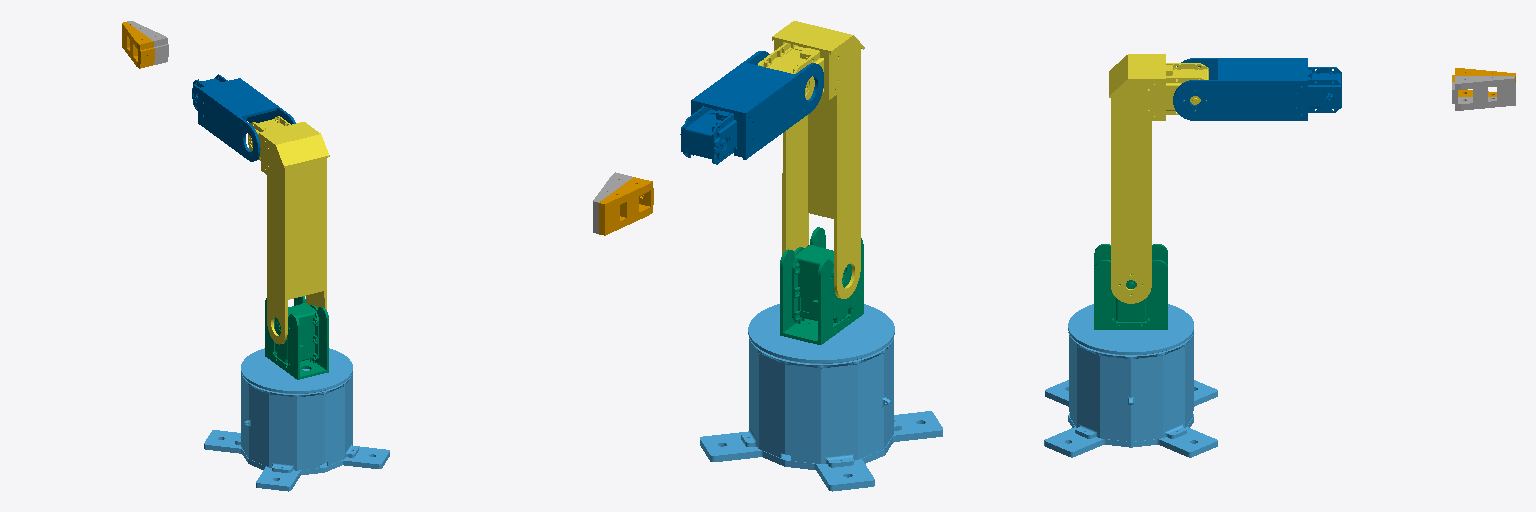
robot.urdf — angle_robot:
<?xml version="1.0"?>
<robot name="angle_robot" xmlns:xacro="http://www.ros.org/wiki/xacro">
	<link name="map" />
	<joint name="ang_base" type="fixed">
		<parent link="map" />
		<child link="ang_link0" />
		<origin rpy="0 0 3.14" xyz="0 0 0.01" />
	</joint>

	<link name="ang_link0">
		<visual>
			<geometry>
				<mesh filename="package://omnibot_manipulator/meshes/link1.dae" scale="0.001 0.001 0.001" />
			</geometry>
		</visual>
		<collision>
			<geometry>
				<mesh filename="package://omnibot_manipulator/meshes/link1.dae" scale="0.001 0.001 0.001" />
			</geometry>
		</collision>
		<inertial>
			<origin xyz="0 0 0.5" rpy="0 0 0" />
			<mass value="1" />
			<inertia ixx="0.01" ixy="0.0" ixz="0.0" iyy="0.01" iyz="0.0" izz="0.01" />
		</inertial>
	</link>
	<joint name="ang_joint1" type="continuous">
		<parent link="ang_link0" />
		<child link="ang_link1" />
		<origin xyz="0 0 0.107" rpy="1.57 0 -1.57" />
		<axis xyz="0 1 0" />
		<dynamics damping="0.99" />
		<limit effort="5.0" velocity="5.0" />
	</joint>

	<link name="ang_link1">
		<visual>
			<geometry>
				<mesh filename="package://omnibot_manipulator/meshes/link2.dae" scale="0.001 0.001 0.001" />
			</geometry>
		</visual>
		<collision>
			<geometry>
				<mesh filename="package://omnibot_manipulator/meshes/link2.dae" scale="0.001 0.001 0.001" />
			</geometry>
		</collision>
		<inertial>
			<origin xyz="0 0.25 0" rpy="0 0 0" />
			<mass value="0.001" />
			<inertia ixx="0.01" ixy="0.0" ixz="0.0" iyy="0.01" iyz="0.0" izz="0.01" />
		</inertial>
	</link>
	<joint name="ang_joint2" type="continuous">
		<parent link="ang_link1" />
		<child link="ang_link2" />
		<origin xyz="0 0.0518 0" rpy="0 0 0" />
		<axis xyz="0 0 1" />
		<dynamics damping="0.99" />
		<limit effort="5.0" velocity="5.0" />
	</joint>

	<link name="ang_link2">
		<visual>
			<geometry>
				<mesh filename="package://omnibot_manipulator/meshes/link3.dae" scale="0.001 0.001 0.001" />
			</geometry>
		</visual>
		<collision>
			<geometry>
				<mesh filename="package://omnibot_manipulator/meshes/link3.dae" scale="0.001 0.001 0.001" />
			</geometry>
		</collision>
		<inertial>
			<origin xyz="0 0.15 0" rpy="0 0 0" />
			<mass value="0.001" />
			<inertia ixx="0.01" ixy="0.0" ixz="0.0" iyy="0.01" iyz="0.0" izz="0.01" />
		</inertial>
	</link>

	<joint name="ang_joint3" type="continuous">
		<parent link="ang_link2" />
		<child link="ang_link3" />
		<origin xyz="0.0626 0.1989 0" rpy="0 0 0" />
		<axis xyz="0 0 1" />
		<dynamics damping="0.99" />
		<limit effort="5.0" velocity="5.0" />
	</joint>

	<link name="ang_link3">
		<visual>
			<geometry>
				<mesh filename="package://omnibot_manipulator/meshes/link4.dae" scale="0.001 0.001 0.001" />
			</geometry>
		</visual>
		<collision>
			<geometry>
				<mesh filename="package://omnibot_manipulator/meshes/link4.dae" scale="0.001 0.001 0.001" />
			</geometry>
		</collision>
		<inertial>
			<origin xyz="0 0 0" rpy="0 0 0" />
			<mass value="0.001" />
			<inertia ixx="0.01" ixy="0.0" ixz="0.0" iyy="0.01" iyz="0.0" izz="0.01" />
		</inertial>
	</link>

	<joint name="ang_joint4" type="continuous">
		<parent link="ang_link3" />
		<child link="ang_link4" />
		<origin xyz="0.13093 0 0" rpy="-1.57 0 1.57" />
		<axis xyz="0 -1 0" />
		<dynamics damping="0.99" />
		<limit effort="5.0" velocity="5.0" />
	</joint>

	<link name="ang_link4">
		<visual>
			<geometry>
				<mesh filename="package://omnibot_manipulator/meshes/link5.dae" scale="0.001 0.001 0.001" />
			</geometry>
		</visual>
		<collision>
			<geometry>
				<mesh filename="package://omnibot_manipulator/meshes/link5.dae" scale="0.001 0.001 0.001" />
			</geometry>
		</collision>
		<inertial>
			<origin xyz="0 0 0" rpy="0 0 0" />
			<mass value="0.001" />
			<inertia ixx="0.01" ixy="0.0" ixz="0.0" iyy="0.01" iyz="0.0" izz="0.01" />
		</inertial>
	</link>

	<joint name="ang_joint5" type="continuous">
		<parent link="ang_link4" />
		<child link="ang_link5" />
		<origin xyz="0 0 -0.06174" rpy="0 0 0" />
		<axis xyz="0 0 -1" />
		<dynamics damping="0.99" />
		<limit effort="5.0" velocity="5.0" />
	</joint>

	<link name="ang_link5">
		<visual>
			<geometry>
				<mesh filename="package://omnibot_manipulator/meshes/link6.dae" scale="0.001 0.001 0.001" />
			</geometry>
		</visual>
		<collision>
			<geometry>
				<mesh filename="package://omnibot_manipulator/meshes/link6.dae" scale="0.001 0.001 0.001" />
			</geometry>
		</collision>
		<inertial>
			<origin xyz="0 0 0" rpy="0 0 0" />
			<mass value="0.001" />
			<inertia ixx="0.01" ixy="0.0" ixz="0.0" iyy="0.01" iyz="0.0" izz="0.01" />
		</inertial>
	</link>

	<joint name="ang_gripper" type="prismatic">
		<parent link="ang_link5" />
		<child link="ang_link6" />
		<origin xyz="0 0 -0.0715" rpy="1.57 3.14 0" />
		<axis xyz="0 0 1" />
		<limit effort="3" lower="0" upper="0.025" velocity="0.05" />
		<dynamics damping="0.99" />
	</joint>

	<link name="ang_link6">
		<collision>
			<geometry>
				<mesh filename="package://omnibot_manipulator/meshes/link7.dae" scale="0.001 0.001 0.001" />
			</geometry>
		</collision>
		<visual>
			<geometry>
				<mesh filename="package://omnibot_manipulator/meshes/link7.dae" scale="0.001 0.001 0.001" />
			</geometry>
		</visual>
		<inertial>
			<origin xyz="0 0 0" rpy="0 0 0" />
			<mass value="0.001" />
			<inertia ixx="0.01" ixy="0.0" ixz="0.0" iyy="0.01" iyz="0.0" izz="0.01" />
		</inertial>
	</link>
	<joint name="ang_gripper_sub" type="prismatic">
		<parent link="ang_link5" />
		<child link="ang_link7" />
		<origin xyz="0 0 -0.0715" rpy="-1.57 0 0" />
		<axis xyz="0 0 1" />
		<limit effort="3" lower="0" upper="0.025" velocity="0.05" />
		<mimic joint="ang_gripper" multiplier="1" offset="0" />
		<dynamics damping="0.99" />
	</joint>
	<link name="ang_link7">
		<collision>
			<geometry>
				<mesh filename="package://omnibot_manipulator/meshes/link7.dae" scale="0.001 0.001 0.001" />
			</geometry>
		</collision>
		<visual>
			<geometry>
				<mesh filename="package://omnibot_manipulator/meshes/link7.dae" scale="0.001 0.001 0.001" />
			</geometry>
		</visual>
		<inertial>
			<origin xyz="0 0 0" rpy="0 0 0" />
			<mass value="0.001" />
			<inertia ixx="0.01" ixy="0.0" ixz="0.0" iyy="0.01" iyz="0.0" izz="0.01" />
		</inertial>
	</link>
</robot>

--- Facts derived from the render (not from the file) ---
3 views of the same robot in one strip: view 1: azimuth 30°, elevation 25°; view 2: azimuth 150°, elevation 25°; view 3: azimuth 270°, elevation 25° (orthographic).
Model angle_robot with 9 links and 8 joints (5 continuous, 2 prismatic, 1 fixed), rooted at map, posed all joints at 0.
Visible links, largest first — view 1: ang_link0, ang_link2, ang_link3, ang_link1, ang_link7, ang_link6; view 2: ang_link0, ang_link2, ang_link3, ang_link1, ang_link7, ang_link6; view 3: ang_link0, ang_link2, ang_link3, ang_link1, ang_link6.
Link boxes in pixels (bbox=[...]): ang_link0: bbox=[204, 348, 389, 491]; ang_link2: bbox=[248, 116, 329, 344]; ang_link3: bbox=[192, 74, 295, 161]; ang_link1: bbox=[265, 296, 328, 379]; ang_link7: bbox=[122, 22, 154, 68]; ang_link6: bbox=[127, 21, 168, 64]; ang_link0: bbox=[700, 304, 942, 491]; ang_link2: bbox=[758, 21, 864, 298]; ang_link3: bbox=[680, 51, 823, 164]; ang_link1: bbox=[780, 227, 863, 344]; ang_link7: bbox=[599, 177, 653, 235]; ang_link6: bbox=[593, 172, 632, 233]; ang_link0: bbox=[1044, 304, 1217, 457]; ang_link2: bbox=[1109, 54, 1208, 303]; ang_link3: bbox=[1173, 58, 1341, 120]; ang_link1: bbox=[1094, 244, 1167, 329]; ang_link6: bbox=[1452, 76, 1515, 110].
Size in the robot's own frame: 0.1697 by 0.4604 by 0.3819 metres.
Meshes: 7 distinct files referenced, 6 mesh visuals loaded (5 Collada DAE); not drawn: 2 (reference not matched to a file when rendering).